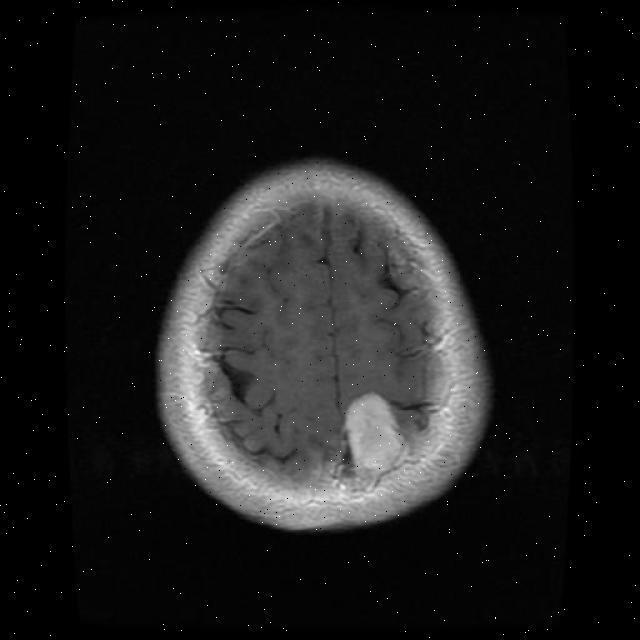Meningioma: (345, 394, 405, 485)
